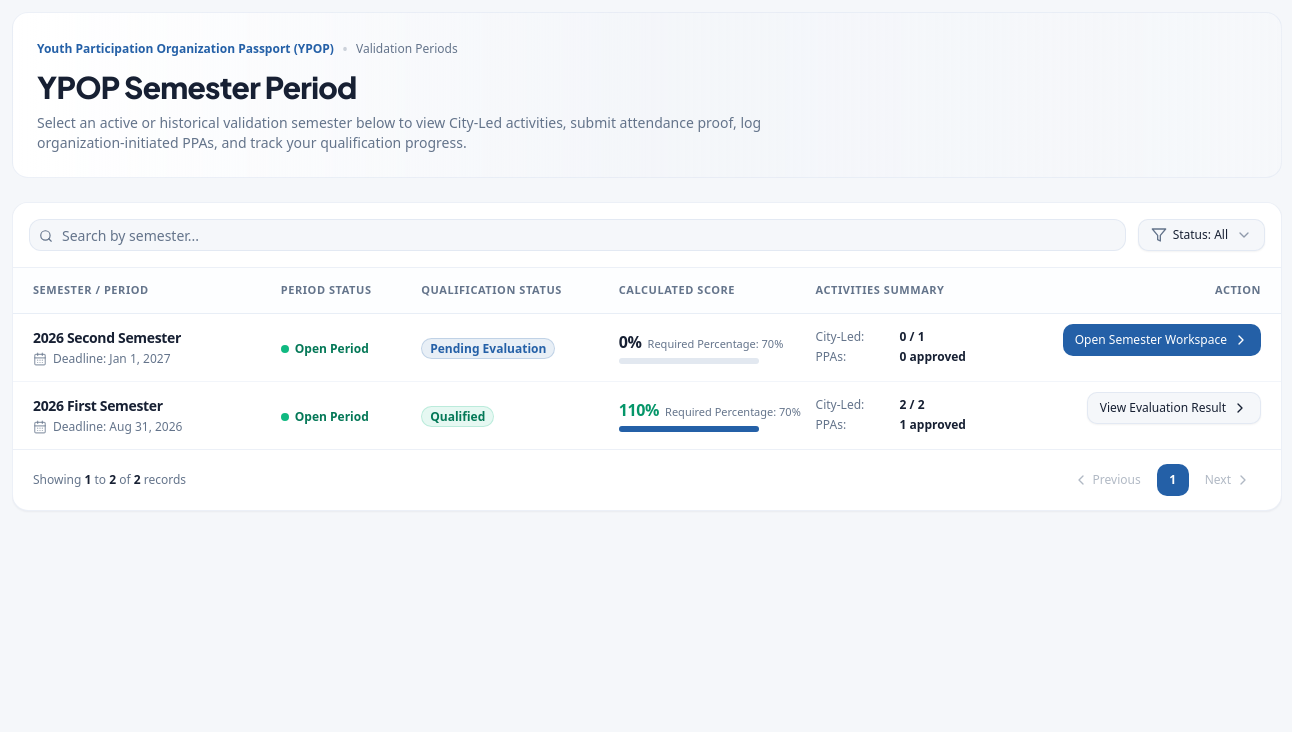
Scenario: UserPortal YPOP Integration - Admin Configuration & Business Rules › 10 & 11. Score changes dynamically when verified participation or approved PPA count changes
Check: the text "110%" is shown, box [619, 398, 659, 422]
Step 1. Click the button "View Evaluation Result" → (1174, 408), box [1087, 392, 1261, 424]
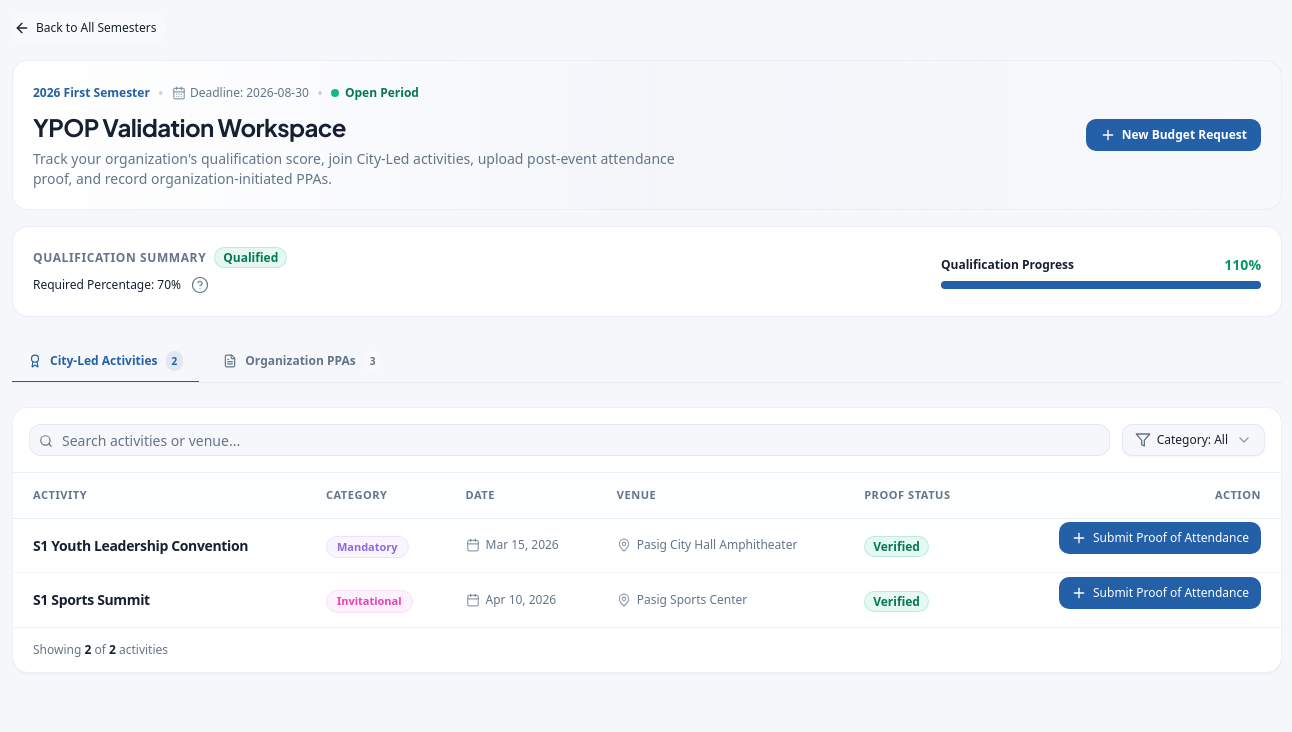
Check: the text "S1 Youth Leadership Convention" is shown, box [33, 536, 248, 555]
Check: the text "S1 Sports Summit" is shown, box [33, 590, 150, 609]
